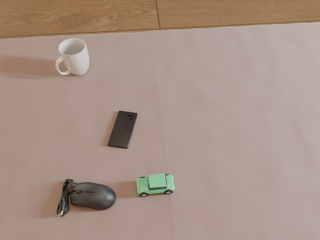cup: (55, 38, 89, 75)
mouse: (57, 179, 116, 216)
phone: (108, 111, 137, 148)
toy_car: (137, 174, 175, 197)
